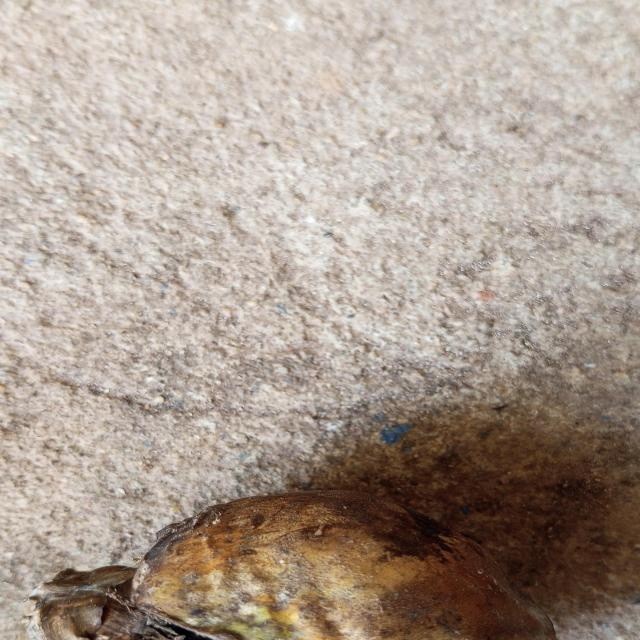damaged: (29, 491, 556, 640)
